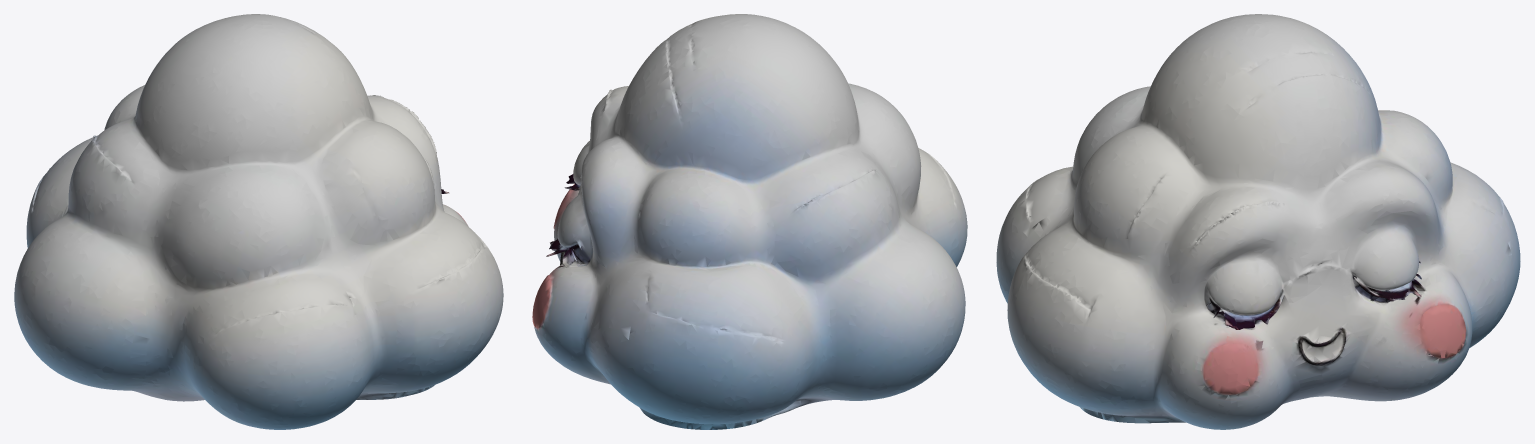
The model's file is nubecita.fbx.
3 renders of one model, left to right at view 1: azimuth 30°, elevation 25°; view 2: azimuth 150°, elevation 25°; view 3: azimuth 270°, elevation 25°, orthographic. The views are drawn at different scales.
Visible parts, largest first — view 1: tripo_node_5c8479e1; view 2: tripo_node_5c8479e1; view 3: tripo_node_5c8479e1.
Boxes of the visible parts, x1,y1,x2,y2 form: tripo_node_5c8479e1: (14, 14, 503, 429); tripo_node_5c8479e1: (532, 14, 967, 429); tripo_node_5c8479e1: (996, 14, 1520, 429).
Size of the model in its own units: 72.59 by 58.04 by 76.4.
